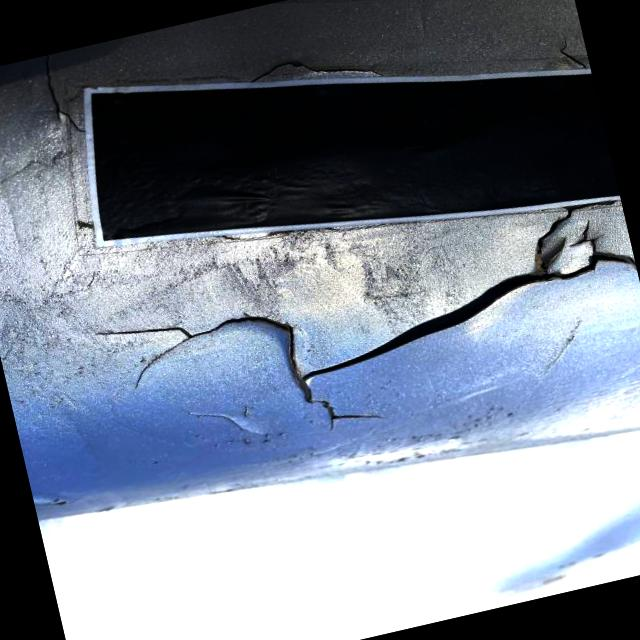crack: (293, 236, 631, 379), (94, 276, 301, 418), (282, 366, 392, 436)
